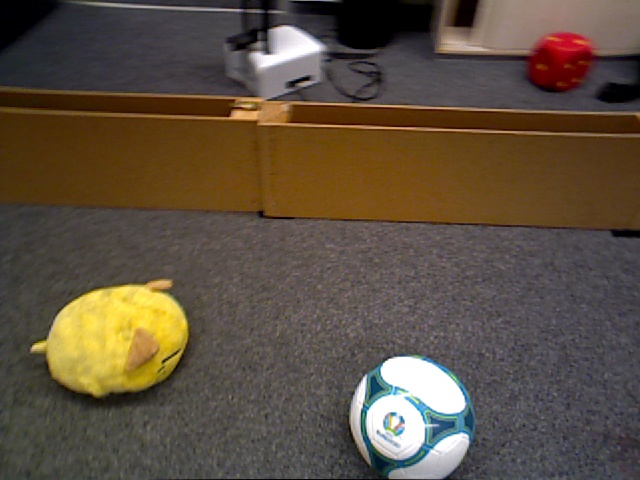grasp: (48, 285, 187, 391)
kick: (349, 355, 474, 480)
